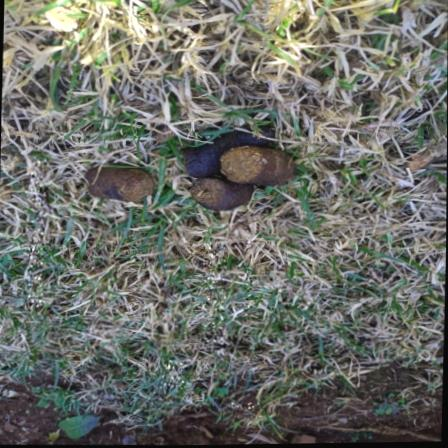dog-poop: (175, 120, 303, 228), (76, 161, 158, 215)
